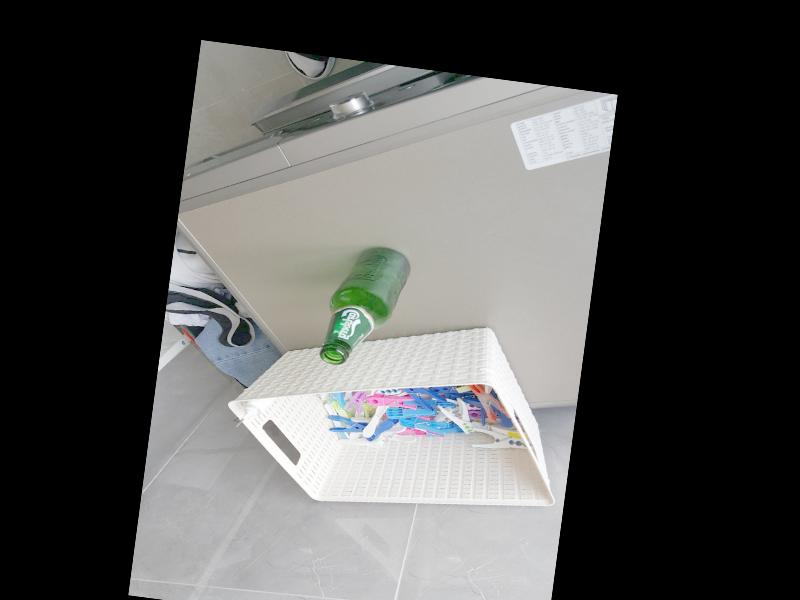Beer: (319, 241, 413, 373)
